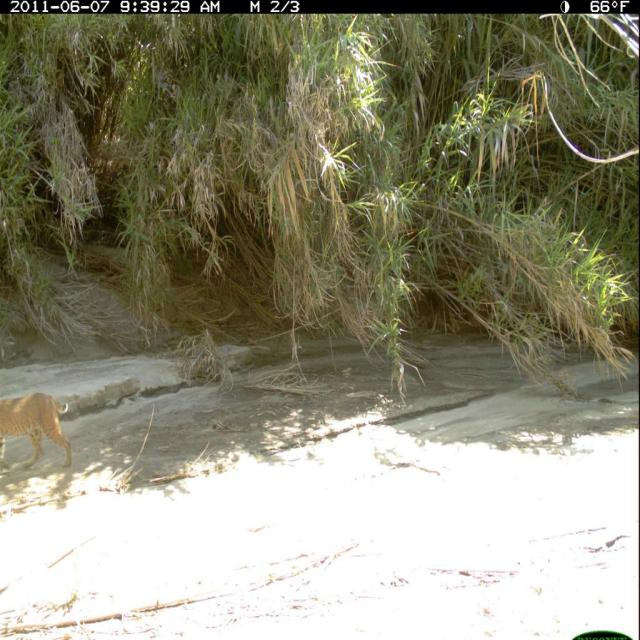bobcat: (2, 391, 76, 494)
